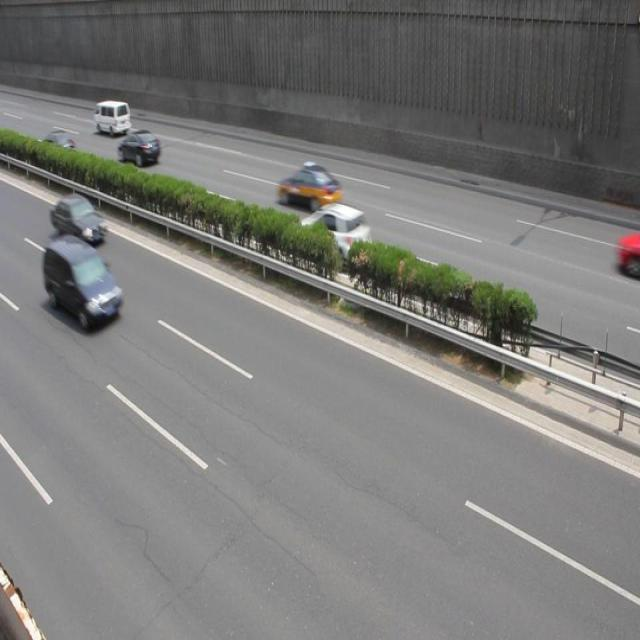car: (299, 202, 373, 264), (276, 162, 343, 215), (50, 192, 108, 250), (118, 130, 161, 168), (41, 130, 77, 165)
truck: (44, 234, 123, 330), (94, 102, 130, 134)
